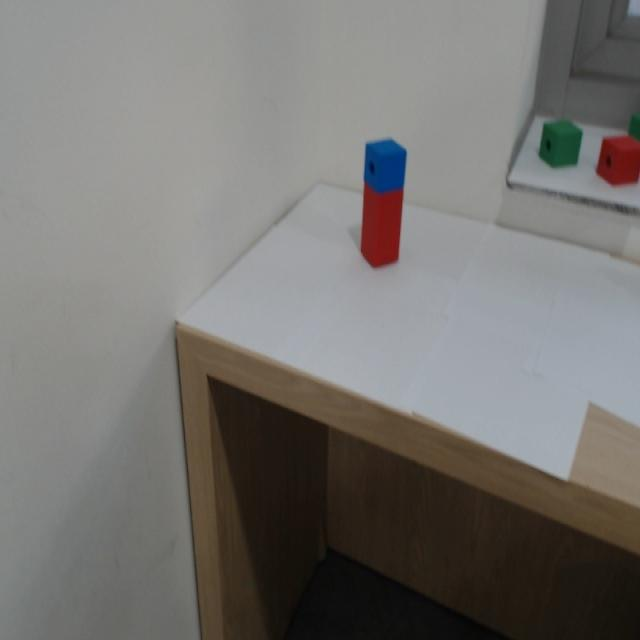cube: (360, 141, 408, 195)
